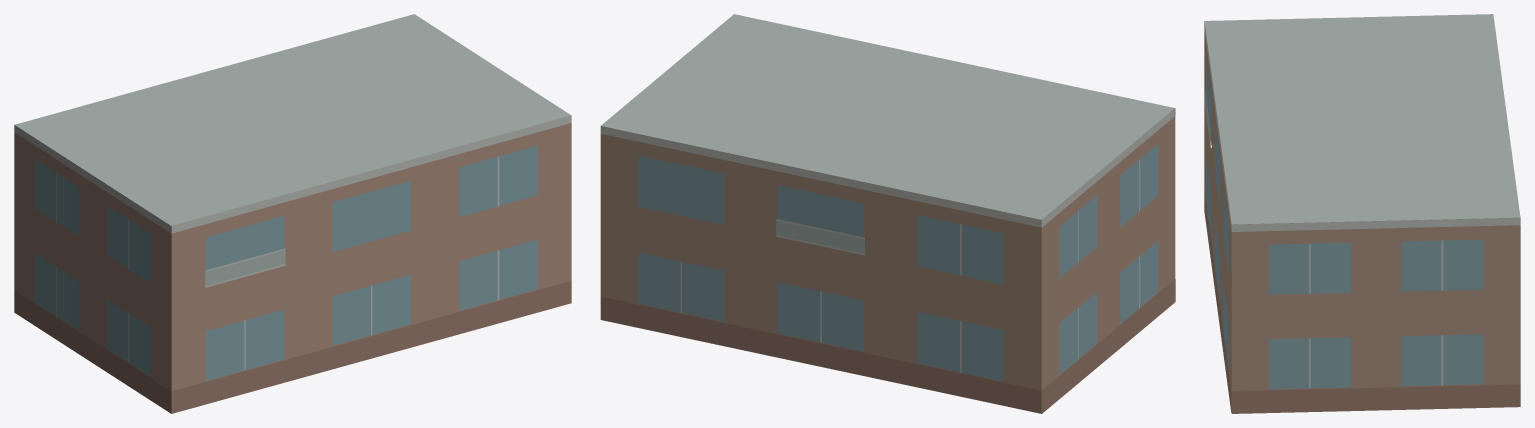
File: survey-upis-32802873.glb
3 renders of one model, left to right at view 1: azimuth 30°, elevation 25°; view 2: azimuth 150°, elevation 25°; view 3: azimuth 270°, elevation 25°, orthographic. The views are drawn at different scales.
Parts seen in each view (by area): view 1: survey-upis-32802873.tmp; view 2: survey-upis-32802873.tmp; view 3: survey-upis-32802873.tmp.
Boxes of the visible parts, bbox=[...] form: survey-upis-32802873.tmp: bbox=[14, 14, 571, 413]; survey-upis-32802873.tmp: bbox=[600, 14, 1175, 413]; survey-upis-32802873.tmp: bbox=[1204, 14, 1520, 413].
Bounding box in the file's own units: 14.55 × 6.1 × 9.24.
